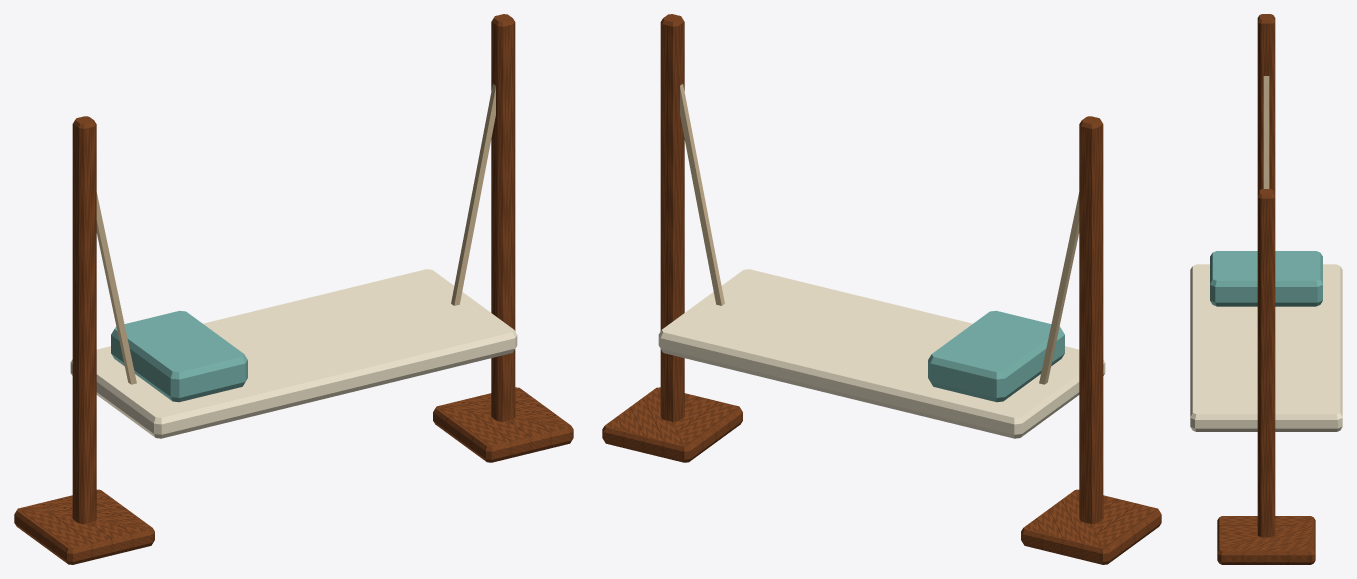
File: ocean-raft-settlement-ocean-raft-settlement-hanging-be-84b8ac88__28914.glb
The picture shows the model from 3 angles, left to right: view 1: azimuth 30°, elevation 25°; view 2: azimuth 150°, elevation 25°; view 3: azimuth 270°, elevation 25°; orthographic projection. The views are drawn at different scales.
Parts seen in each view (by area): view 1: canvas, wood, teal, rope; view 2: canvas, wood, teal, rope; view 3: canvas, wood, teal, rope.
Boxes of the visible parts, left/top/right/bottom form: canvas: left=70, top=269, right=517, bottom=438; wood: left=14, top=14, right=573, bottom=564; teal: left=111, top=310, right=247, bottom=402; rope: left=96, top=84, right=495, bottom=384; canvas: left=658, top=269, right=1105, bottom=438; wood: left=602, top=14, right=1161, bottom=564; teal: left=928, top=310, right=1064, bottom=402; rope: left=680, top=84, right=1079, bottom=384; canvas: left=1190, top=264, right=1342, bottom=431; wood: left=1217, top=14, right=1315, bottom=564; teal: left=1210, top=251, right=1322, bottom=306; rope: left=1263, top=76, right=1269, bottom=188.
Bounding box in the file's own units: 2.3 × 1.8 × 0.7.
4 materials, 1 textured.
